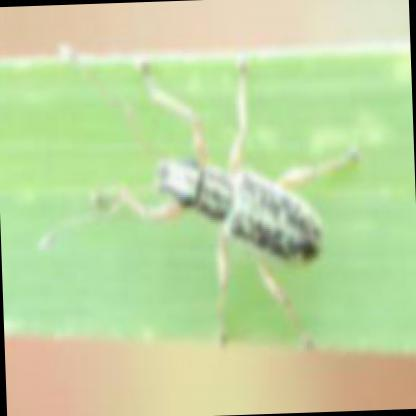ash weevil: (40, 67, 353, 351)
